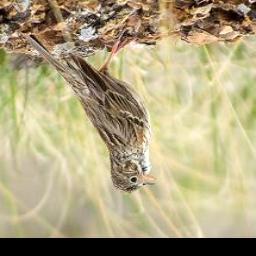Sparrow: (17, 20, 164, 200)
